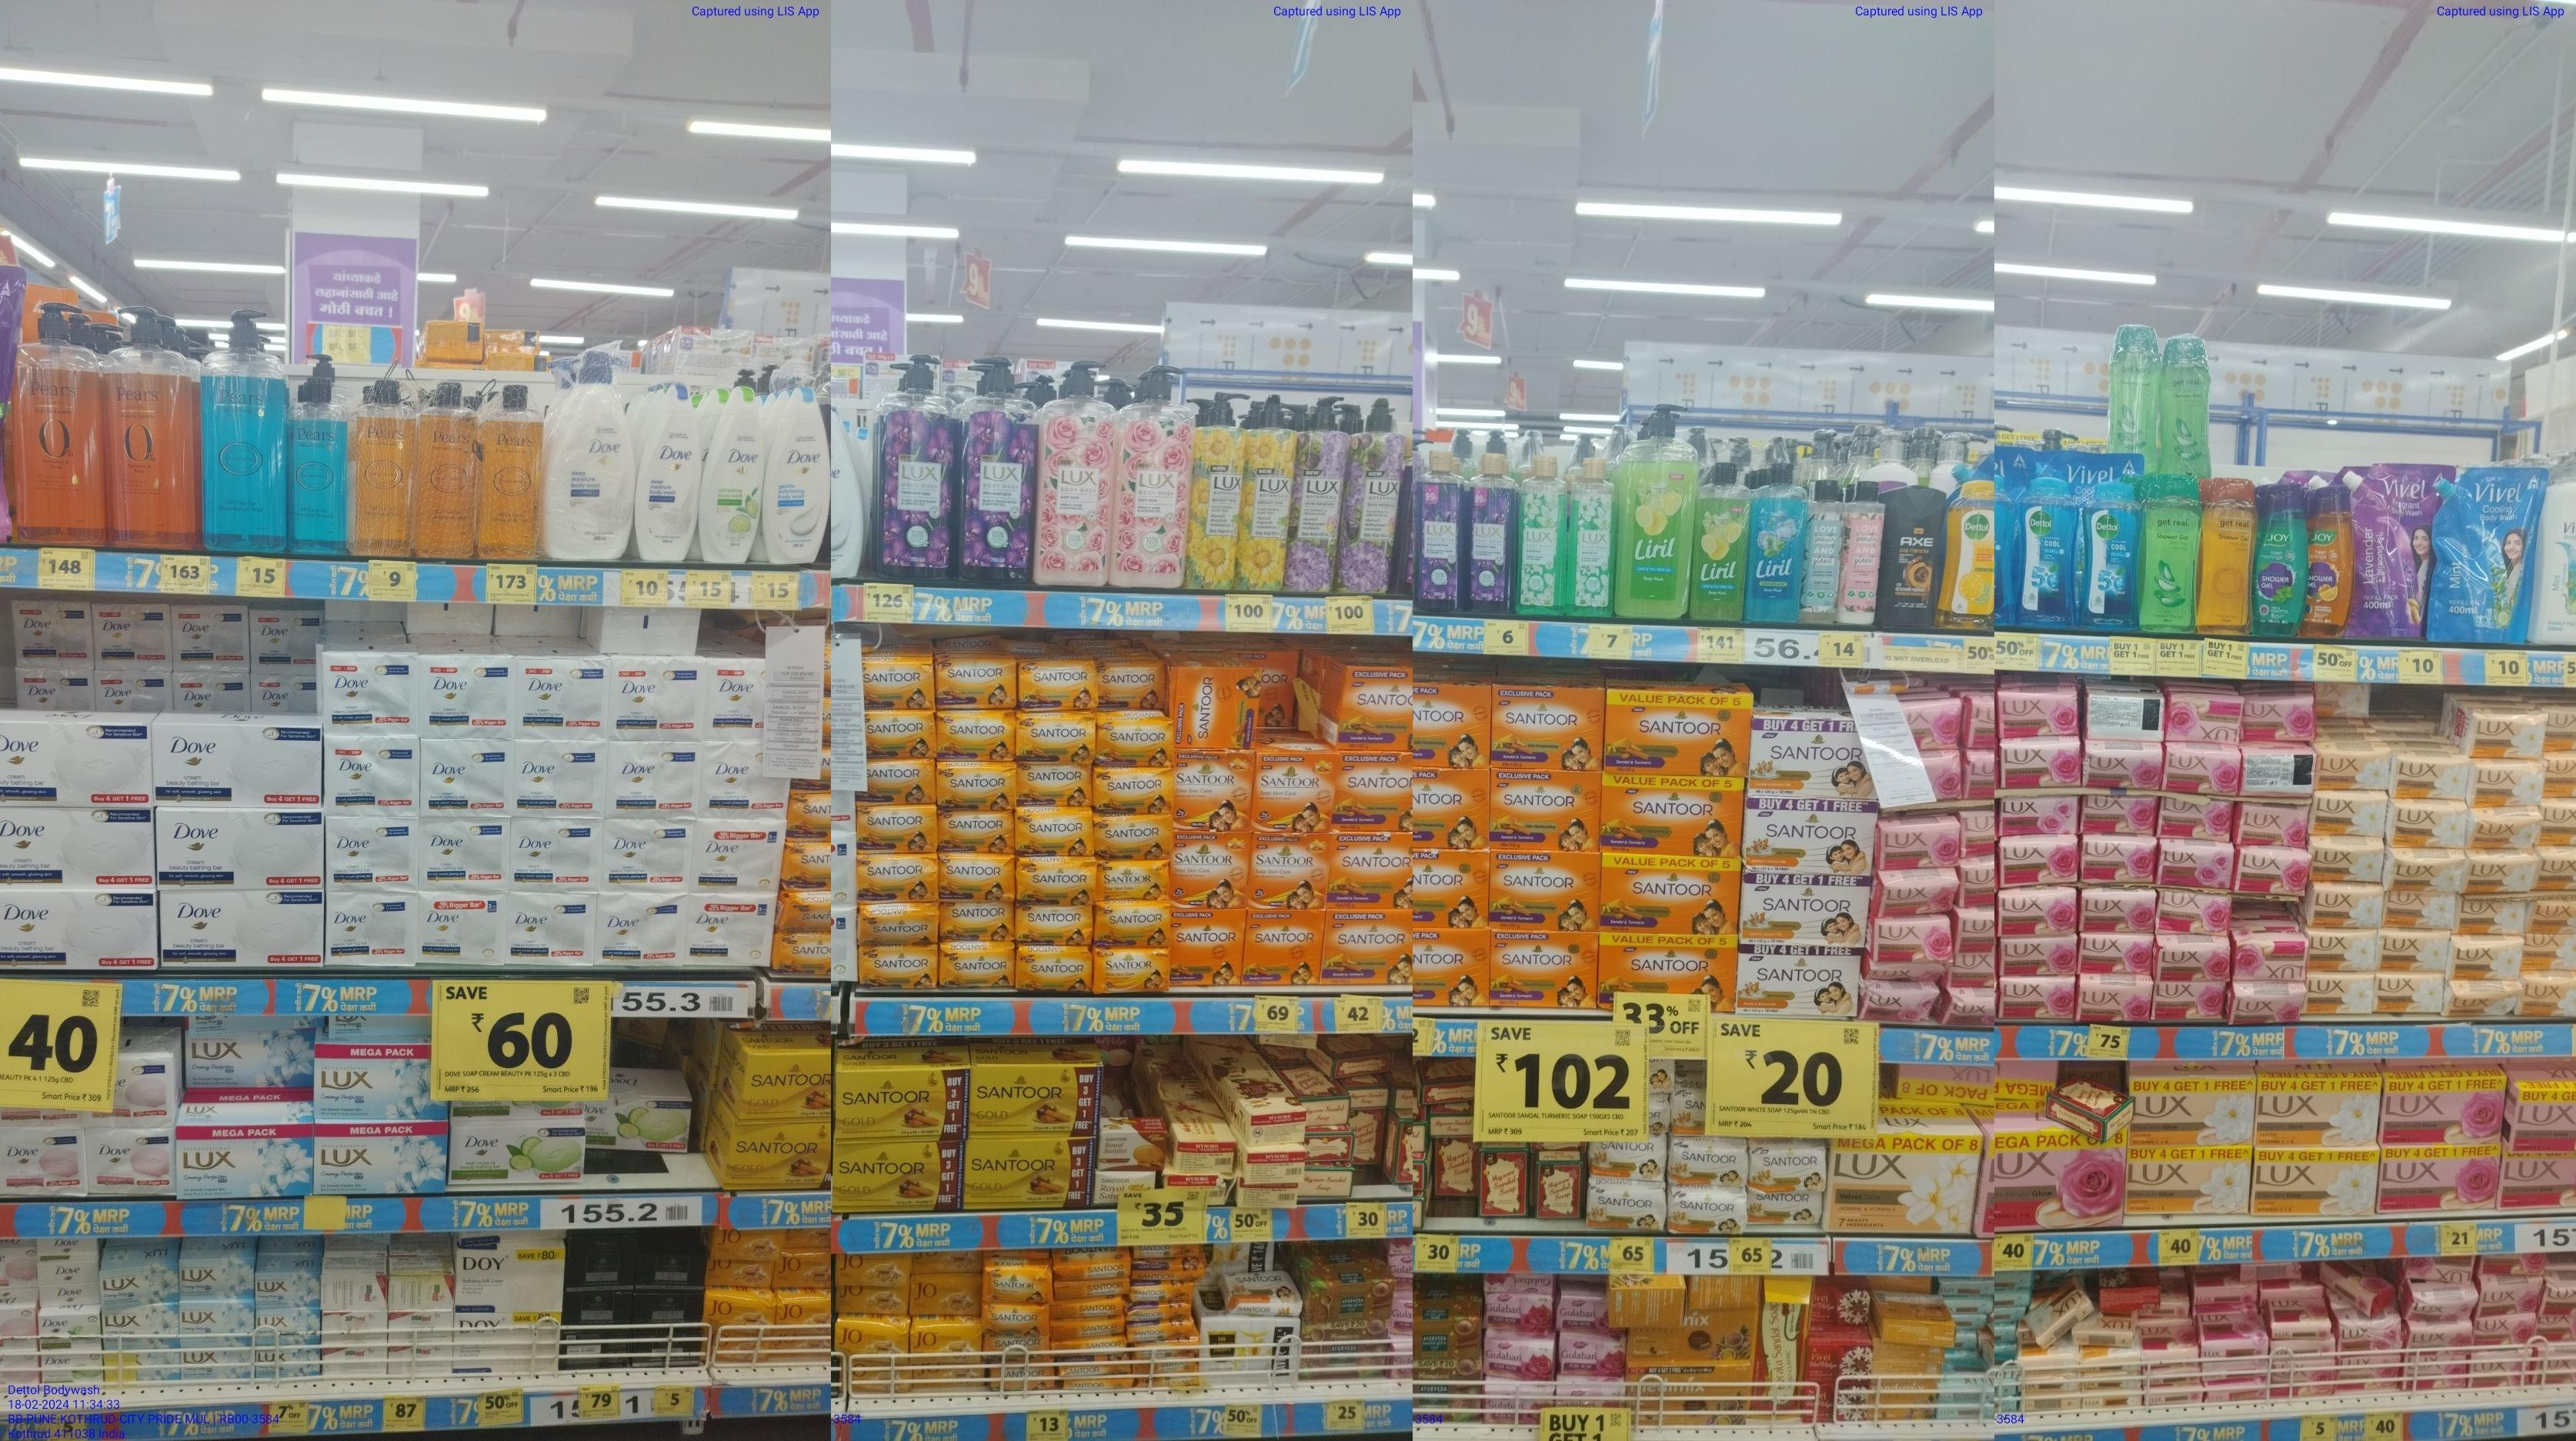Dettol_Bodywash_Cool: (2017, 476, 2079, 626), (2082, 483, 2139, 631)
Dettol_Bodywash_Refresh: (1941, 477, 1994, 631)
Dove_Deep_Moisture_Body_Wash_250ML: (637, 380, 697, 560)
Dove_Gentle_Exfoliating_Body_Wash_250ML: (766, 387, 828, 562)
Dove_Refreshing_Body_Wash_250ML: (699, 384, 761, 564)
Get_Real_Shower_Gel_Moisturising_Glycerin_300ML: (2199, 476, 2252, 635)
Joy_Shower_Gel_Mandarin_and_Lemongrass_250ML: (2305, 481, 2350, 638)
Joy_Shower_Gel_Mint_and_Eucalyptus_250ML: (2256, 486, 2304, 637)
Liril_Cooling_Mint_Body_Wash_250ML: (1748, 465, 1803, 624)
Liril_Lime_and_Tea_Tree_Oil_Body_Wash_250ML: (1693, 461, 1746, 626)
Lux_Black_Orchid_Scent_and_Juniper_Oil_Body_Wash_245ML: (1463, 447, 1511, 614), (1414, 449, 1461, 614)
Lux_Body_Wash_Skin_Detox_Freesia_Scent_and_Alove_Vera_245ML: (1513, 453, 1566, 617), (1568, 454, 1614, 622)
Pears_Pure_Glycerin_and_Mint_Extracts_Body_Wash_250ML: (290, 378, 347, 559)
